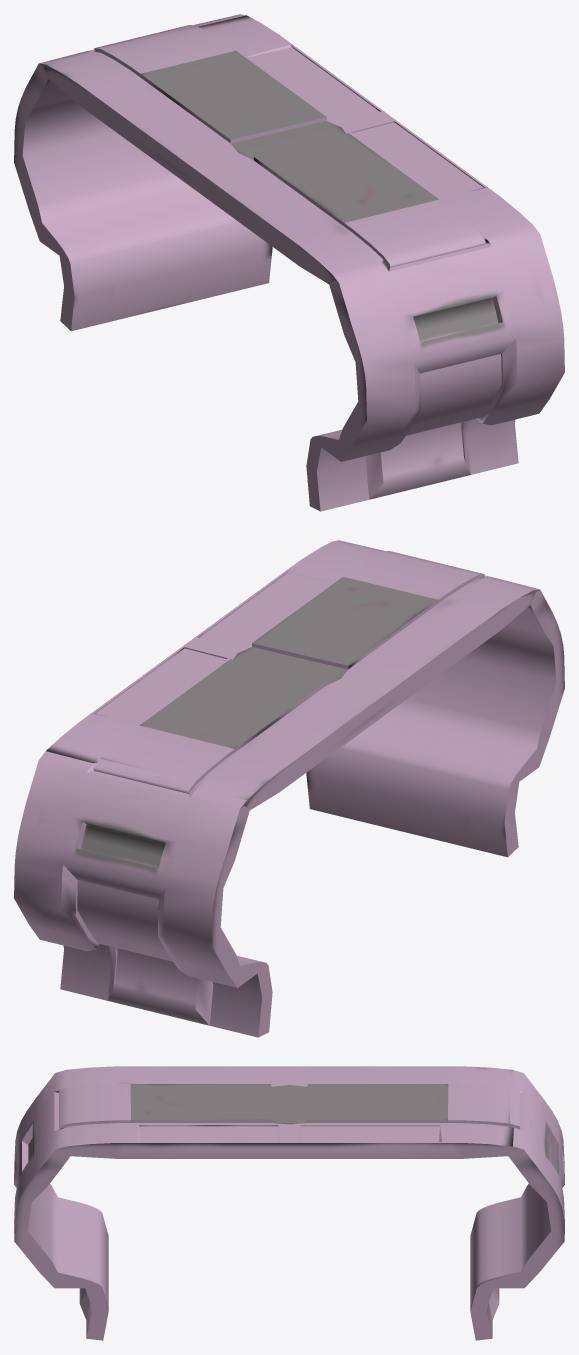
Rendered from Desk.glb.
3 views of the same model, one above another, from view 1: azimuth 30°, elevation 25°; view 2: azimuth 150°, elevation 25°; view 3: azimuth 270°, elevation 25° (orthographic). The views are drawn at different scales.
Parts seen in each view (by area): view 1: Desk; view 2: Desk; view 3: Desk.
Part boxes in pixels (left/top/right/bottom): Desk: left=14, top=14, right=564, bottom=511; Desk: left=14, top=540, right=564, bottom=1037; Desk: left=14, top=1066, right=564, bottom=1340.
Size of the model in its own units: 1.76 by 2.16 by 5.36.
Materials: 1 (1 with a texture image).
